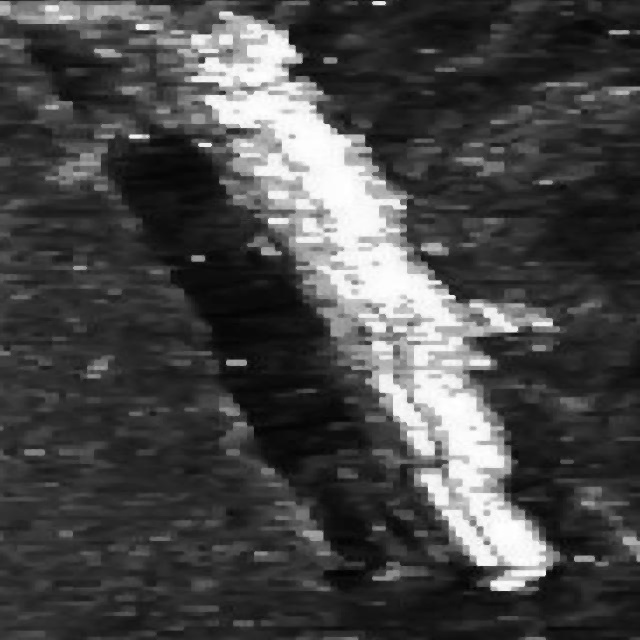Ship: (13, 6, 611, 614)
